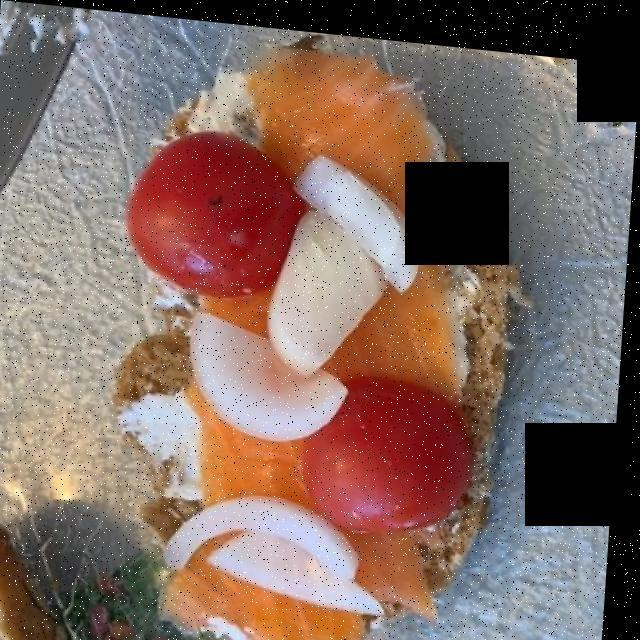bread: (126, 49, 515, 640)
butter: (136, 73, 478, 488)
onion: (168, 150, 425, 604)
salmon: (179, 44, 454, 640)
tomato: (119, 124, 474, 531)
